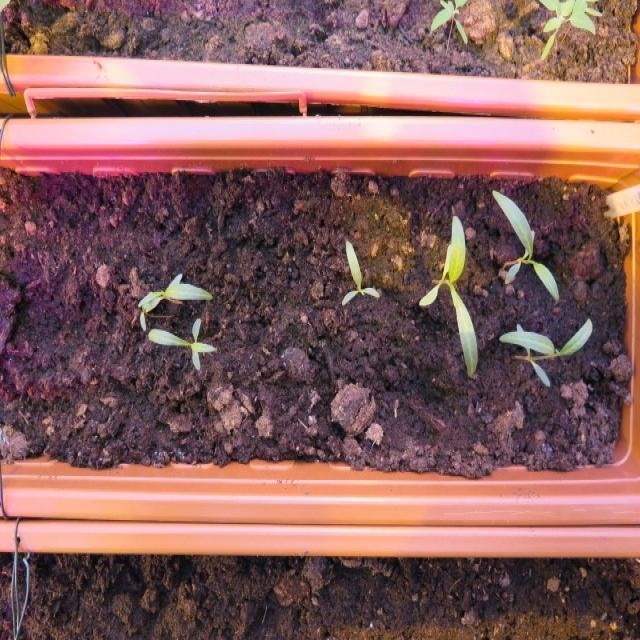weed: (337, 232, 381, 307)
